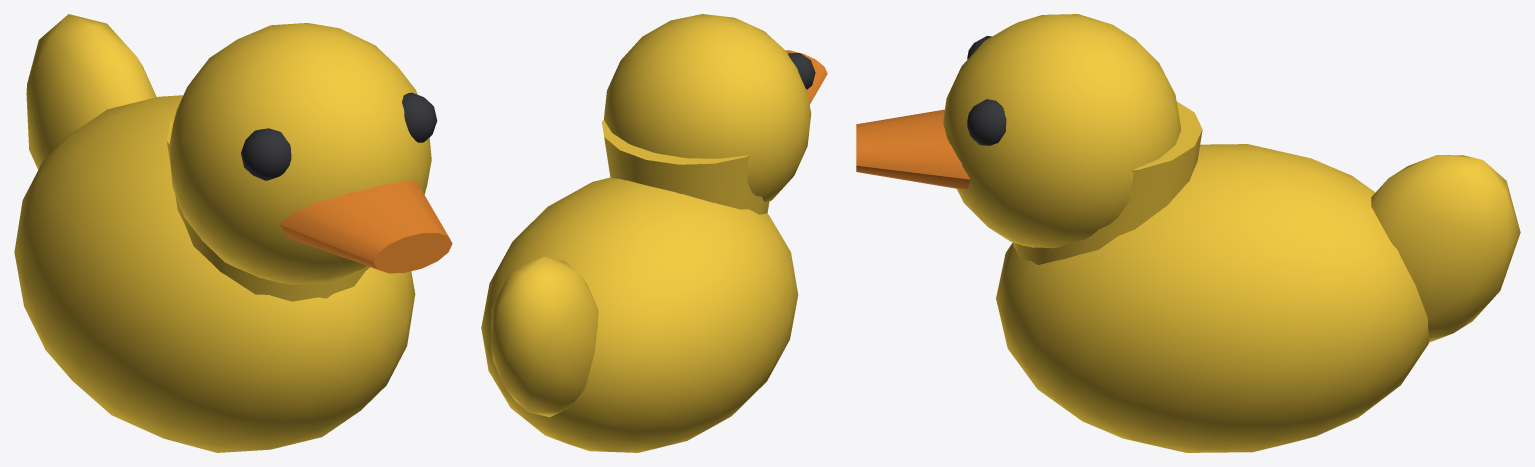
The model's file is orn_duck.fbx.
3 views of the same model, side by side, from view 1: azimuth 30°, elevation 25°; view 2: azimuth 150°, elevation 25°; view 3: azimuth 270°, elevation 25° (orthographic). The views are drawn at different scales.
Parts seen in each view (by area): view 1: yellow_1, orange_1, dark_1; view 2: yellow_1, dark_1, orange_1; view 3: yellow_1, orange_1, dark_1.
Boxes of the visible parts, x1,y1,x2,y2 form: yellow_1: (14,14,431,452); orange_1: (279,181,452,273); dark_1: (241,92,437,180); yellow_1: (481,14,811,452); dark_1: (788,53,815,89); orange_1: (786,50,827,104); yellow_1: (943,14,1520,452); orange_1: (856,109,970,189); dark_1: (967,36,1006,145).
Size of the model in its own units: 0.0149 by 0.0203 by 0.0296.
